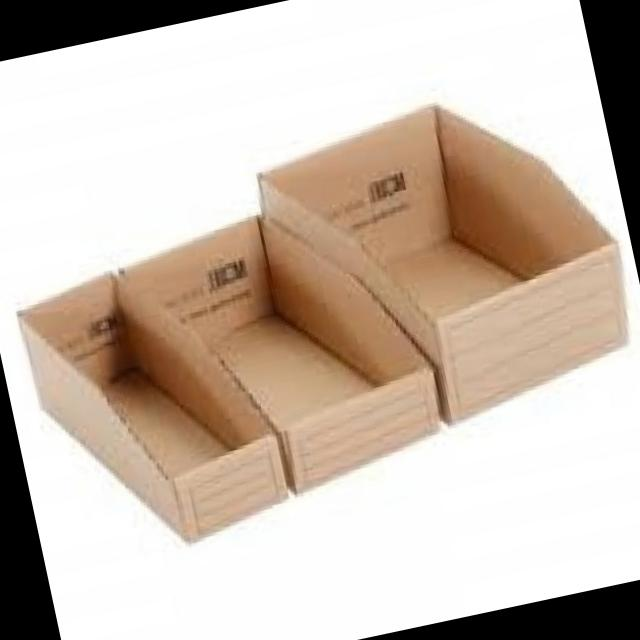cardboard paper: (21, 104, 627, 537)
